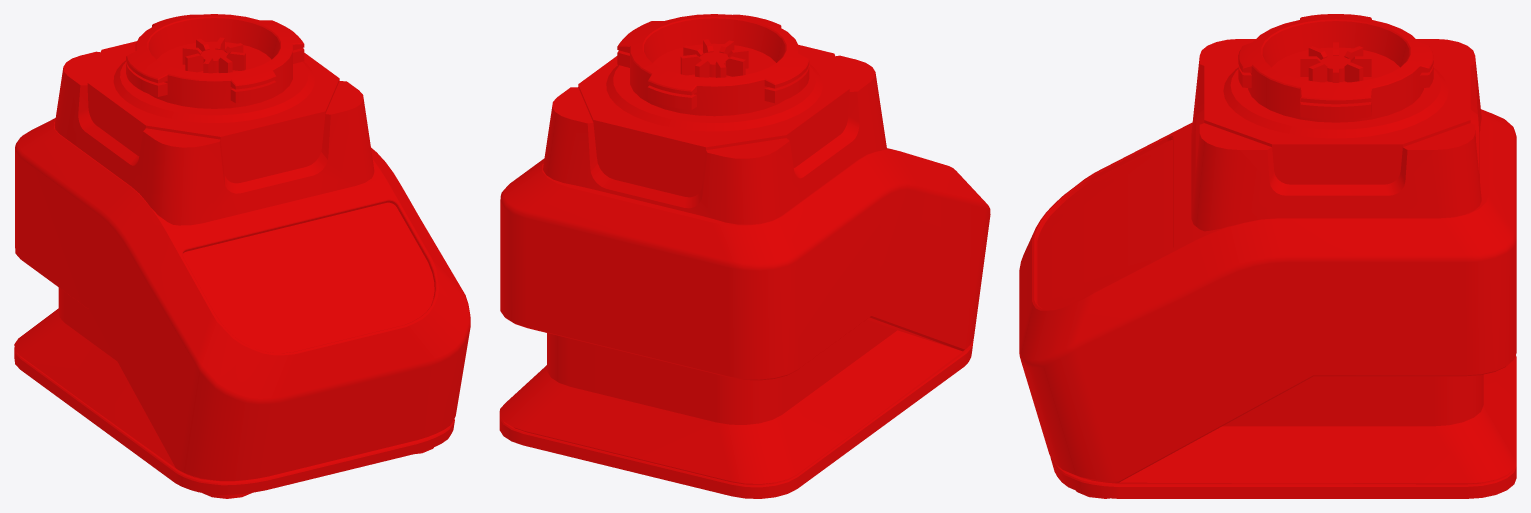
Rendered from SM_blender_01_base.glb.
The picture shows the model from 3 angles, left to right: view 1: azimuth 30°, elevation 25°; view 2: azimuth 150°, elevation 25°; view 3: azimuth 270°, elevation 25°; orthographic projection. The views are drawn at different scales.
Visible parts, largest first — view 1: SM_blender_01_base_LOD0; view 2: SM_blender_01_base_LOD0; view 3: SM_blender_01_base_LOD0.
Boxes of the visible parts, x1,y1,x2,y2 form: SM_blender_01_base_LOD0: [14, 14, 470, 498]; SM_blender_01_base_LOD0: [499, 14, 990, 498]; SM_blender_01_base_LOD0: [1019, 14, 1516, 498].
Size of what is drawn, in the model's own units: 0.1616 by 0.1959 by 0.2297.
